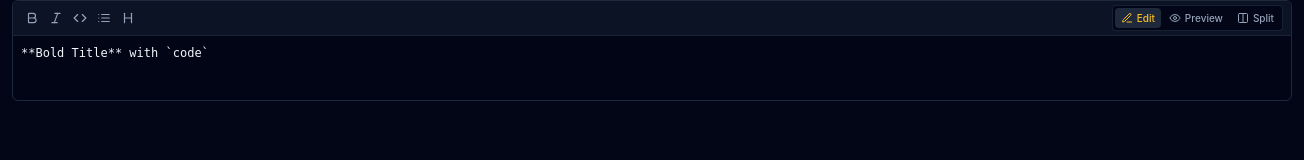
MarkdownEditor Component › 3. Edit, Preview & Split Mode Toggle › toggles to preview mode and renders sanitized markdown HTML
Click the button with test id "md-mode-preview".
click(1196, 18)  # box x1=1163 y1=8 x2=1229 y2=28
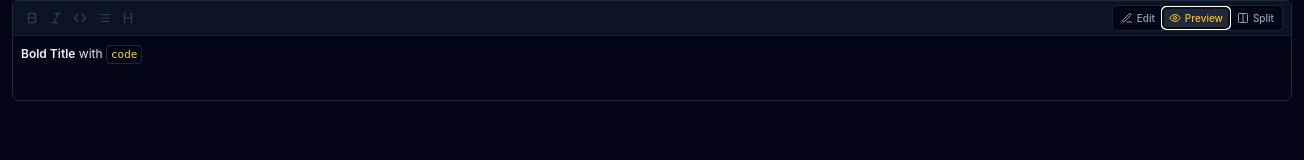
Result: the text box with test id "markdown-textarea" is gone
Result: the element with test id "markdown-preview" is shown at x1=21 y1=45 x2=142 y2=64
